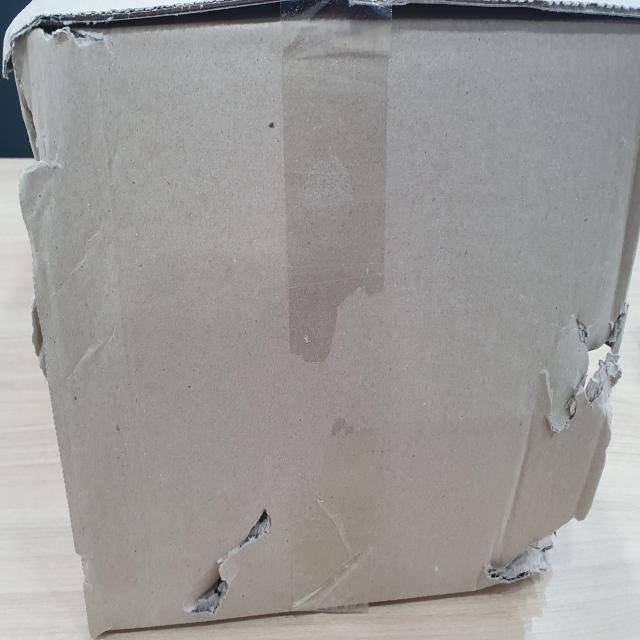hole: (474, 493, 606, 597), (190, 512, 276, 616), (562, 319, 618, 423)
